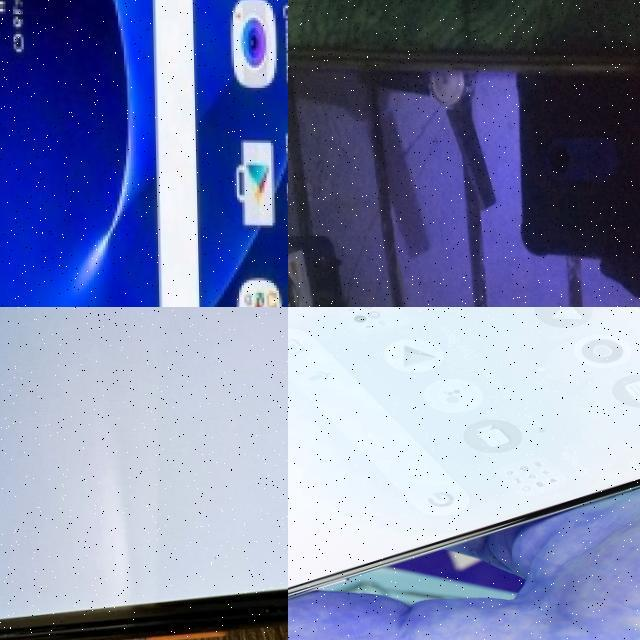screen crack: (304, 46, 483, 307)
